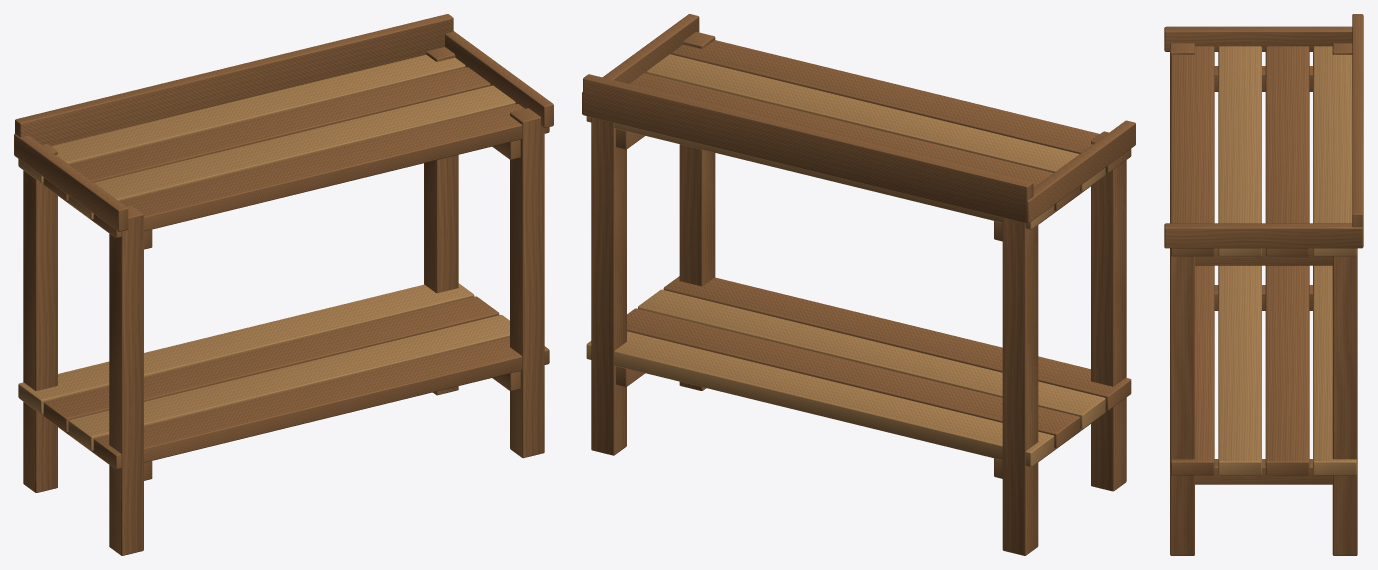
The model's file is ToolShelf.fbx.
3 views of the same model, side by side, from view 1: azimuth 30°, elevation 25°; view 2: azimuth 150°, elevation 25°; view 3: azimuth 270°, elevation 25° (orthographic). The views are drawn at different scales.
Parts seen in each view (by area): view 1: ToolShelf_Mesh; view 2: ToolShelf_Mesh; view 3: ToolShelf_Mesh.
Boxes of the visible parts, x1,y1,x2,y2 form: ToolShelf_Mesh: (14,14,553,555); ToolShelf_Mesh: (582,14,1135,555); ToolShelf_Mesh: (1164,14,1363,555).
Bounding box in the file's own units: 1.06 × 0.8425 × 0.4405.
Materials: 1 (1 with a texture image).
